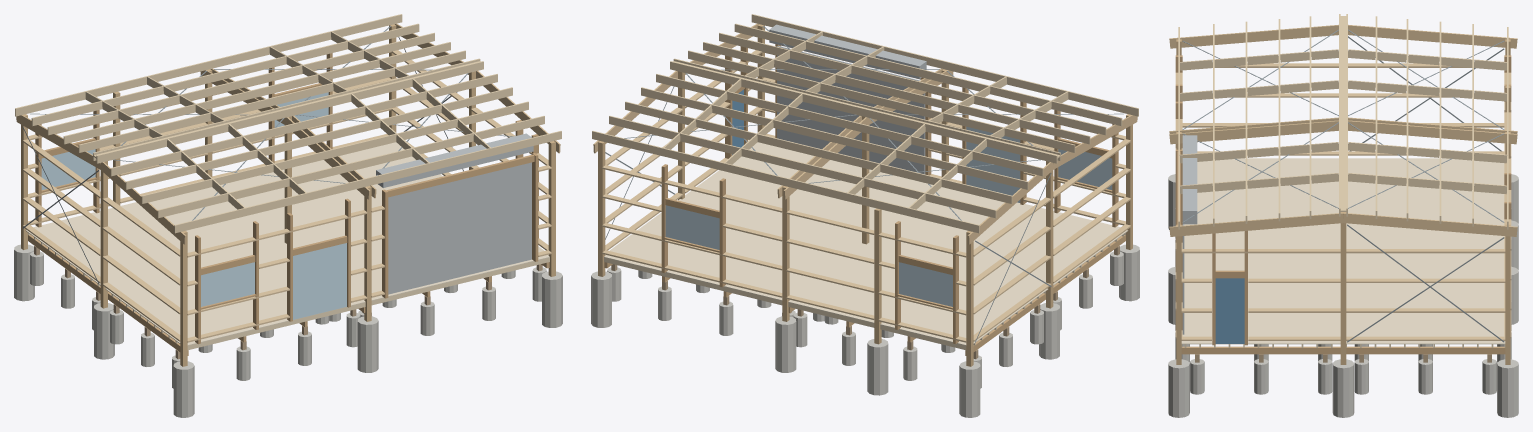
File: gable-shed-frame.glb
3 renders of one model, left to right at view 1: azimuth 30°, elevation 25°; view 2: azimuth 150°, elevation 25°; view 3: azimuth 270°, elevation 25°, orthographic. The views are drawn at different scales.
Parts seen in each view (by area): view 1: Members mesh (×5), Slabs mesh, Doors mesh (×2), Footings mesh, Columns mesh, Beams mesh (×3), Windows mesh, Other mesh, Piles mesh; view 2: Members mesh (×5), Slabs mesh, Footings mesh, Columns mesh, Doors mesh (×2), Windows mesh, Beams mesh (×3), Other mesh, Piles mesh; view 3: Members mesh (×5), Slabs mesh, Footings mesh, Beams mesh (×2), Columns mesh, Doors mesh, Other mesh.
Boxes of the visible parts, x1,y1,x2,y2 form: Members mesh (×5): (15,14,561,344); Slabs mesh: (25,142,549,345); Doors mesh (×2): (293,162,531,319); Footings mesh: (14,244,562,417); Columns mesh: (21,24,555,366); Beams mesh (×3): (28,83,549,355); Windows mesh: (41,92,328,306); Other mesh: (376,133,533,187); Piles mesh: (34,246,542,359); Members mesh (×5): (592,14,1138,344); Slabs mesh: (604,142,1128,345); Footings mesh: (591,244,1139,417); Columns mesh: (598,24,1132,366); Doors mesh (×2): (777,46,1020,202); Windows mesh: (665,149,1112,306); Beams mesh (×3): (604,45,1125,355); Other mesh: (769,24,926,78); Piles mesh: (611,246,1119,359); Members mesh (×5): (1169,14,1517,345); Slabs mesh: (1181,158,1505,344); Footings mesh: (1168,174,1518,417); Beams mesh (×2): (1177,151,1505,354); Columns mesh: (1176,39,1510,364); Doors mesh: (1215,278,1244,343); Other mesh: (1182,135,1197,224).
Bounding box in the file's own units: 12.6 × 6.32 × 9.59.
